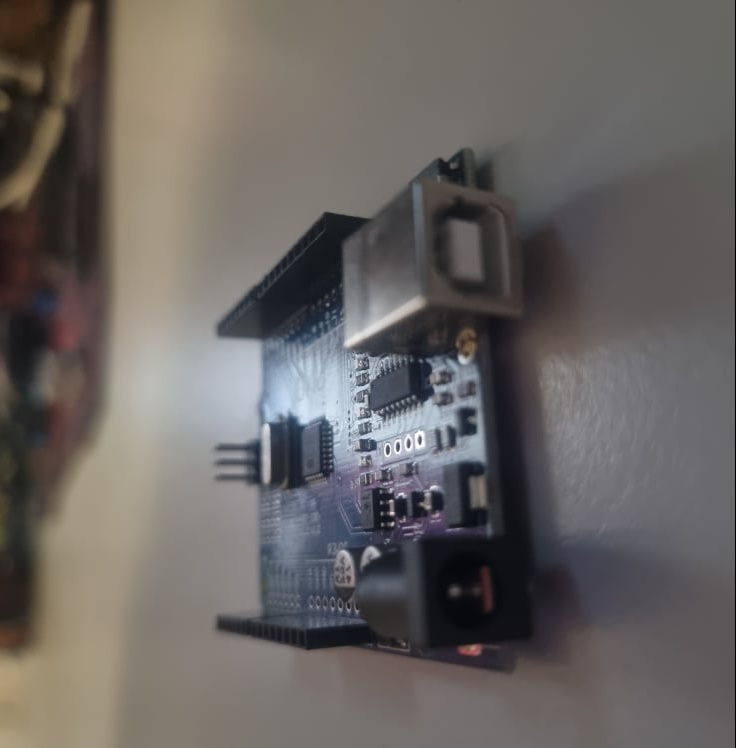UNO R3: (216, 143, 542, 678)
